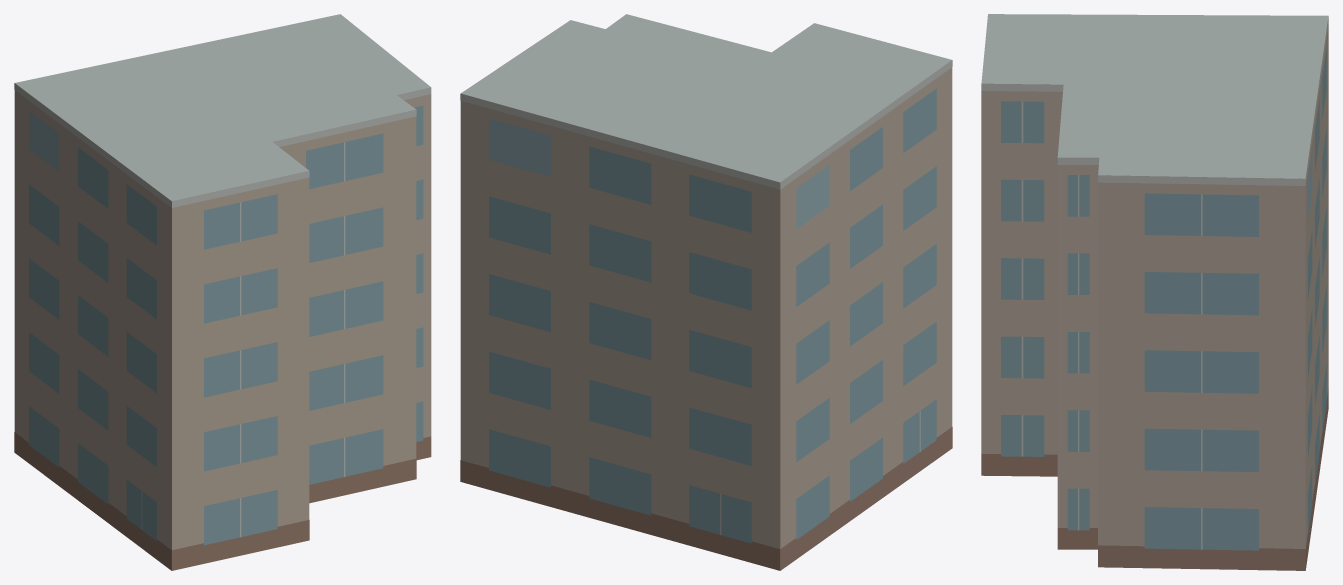
The model's file is survey-upis-32974080.glb.
The picture shows the model from 3 angles, left to right: view 1: azimuth 30°, elevation 25°; view 2: azimuth 150°, elevation 25°; view 3: azimuth 270°, elevation 25°; orthographic projection. The views are drawn at different scales.
Parts seen in each view (by area): view 1: survey-upis-32974080.tmp; view 2: survey-upis-32974080.tmp; view 3: survey-upis-32974080.tmp.
Part boxes in pixels (box(x1,y1,x2,y2)): survey-upis-32974080.tmp: box(14, 14, 431, 570); survey-upis-32974080.tmp: box(460, 14, 952, 570); survey-upis-32974080.tmp: box(981, 14, 1328, 570).
Size of the model in its own units: 12 by 13.3 by 10.69.
